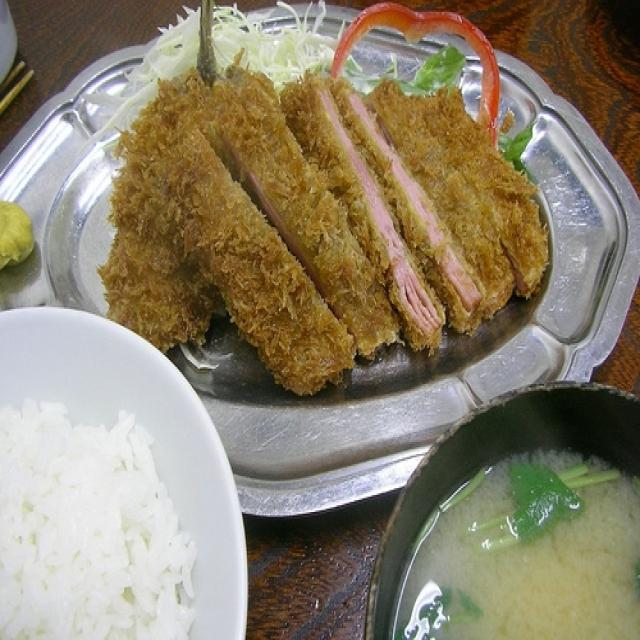炸货点心: (41, 10, 603, 427)
